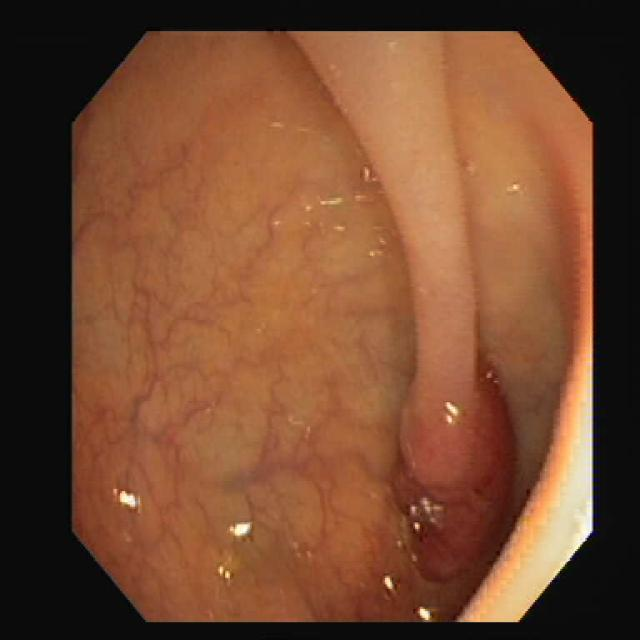tumor: (397, 358, 517, 567)
